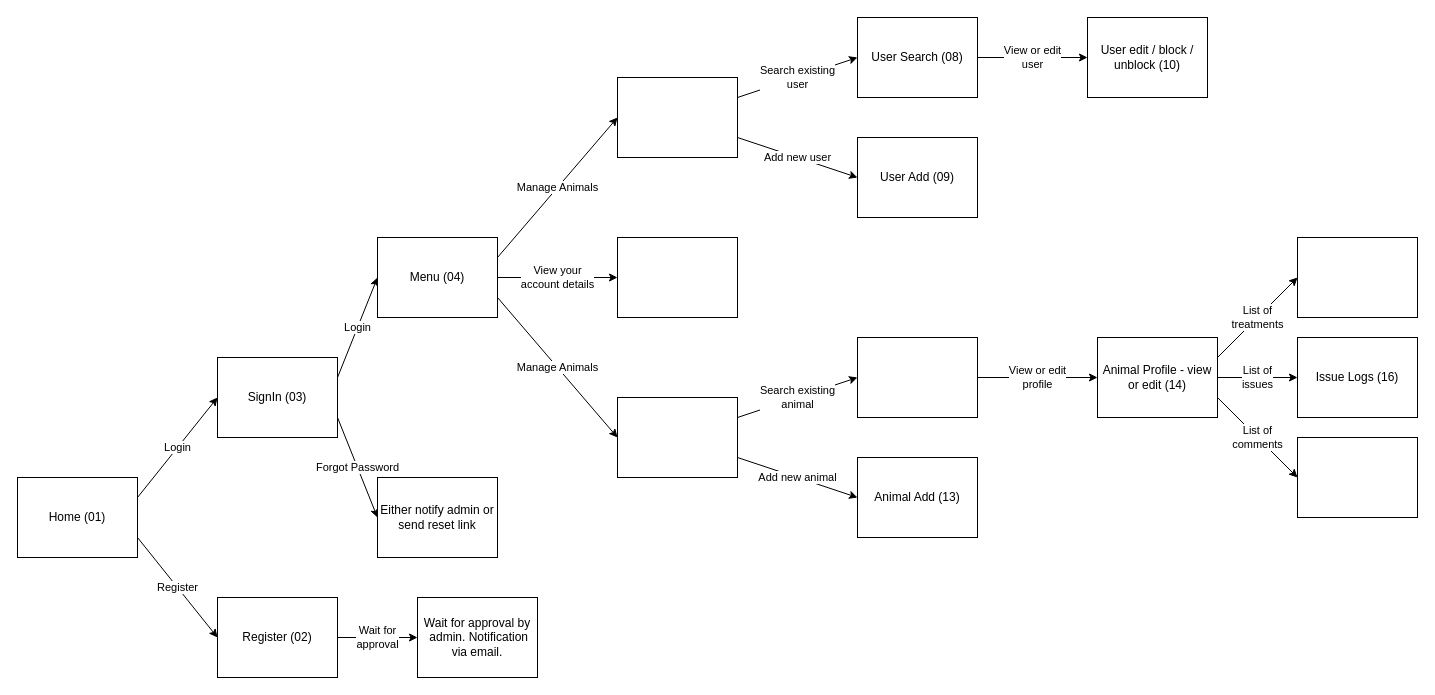
Image size: 1435x695. Some labels were removed from this diagram. The centre of each missing label's shape, as x and y in pixels:
Animal Management Page (06): point 677,437
Animal Search (12): point 917,377
Comment Logs (17): point 1357,477
Treatment Logs (15): point 1357,277
User Management Page (05): point 677,117
Your account (07): point 677,277
